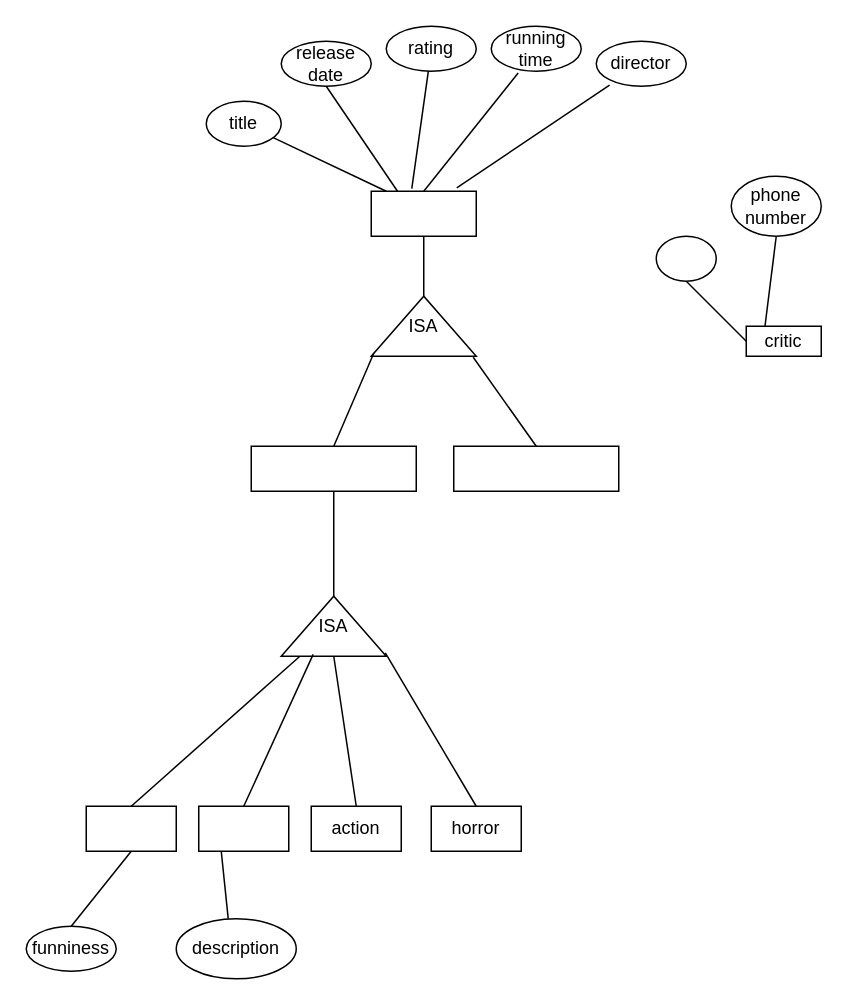
The diagram is 848 pixels wide and 1005 high, and some of its shapes have lost their labels. The shapes that lost their labels are listed below. From the top down, each one's box as (x1, y1, x2, y2) in pixels, then its label:
(370, 190, 476, 236): movie
(655, 235, 716, 281): name
(250, 445, 416, 491): domestic movies
(452, 445, 619, 491): foreign movies
(85, 805, 176, 851): comedy
(197, 805, 289, 851): drama
